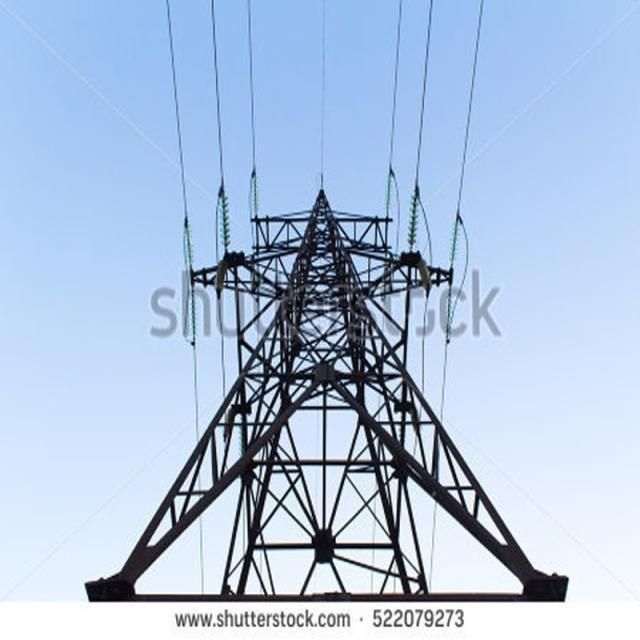non-critical vegetation: (120, 146, 546, 591)
